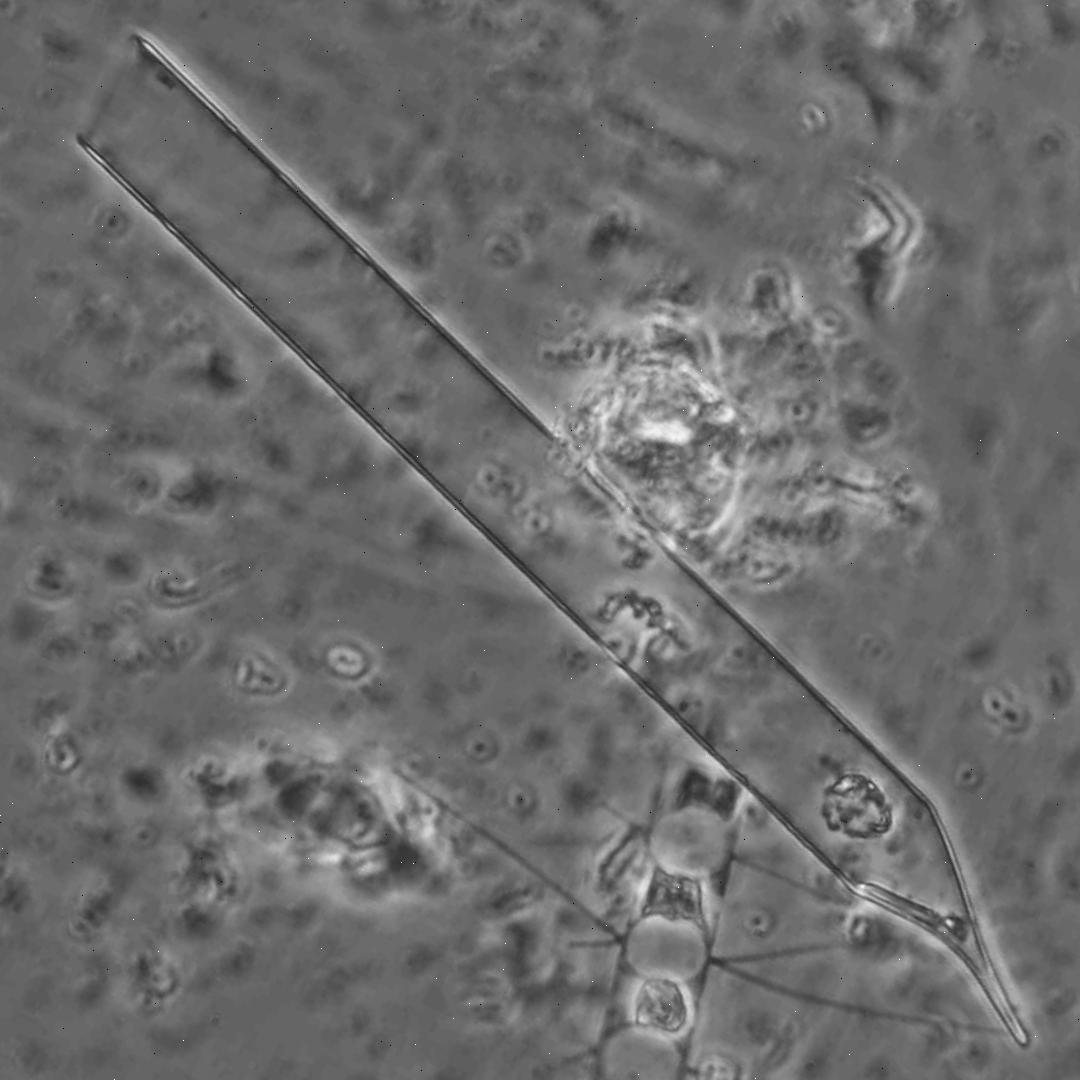proboscia_alata: (76, 35, 1029, 1045)
